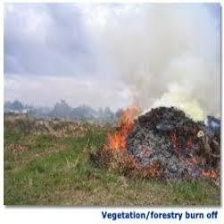fire: (106, 107, 141, 154)
smoke: (133, 16, 214, 106)
